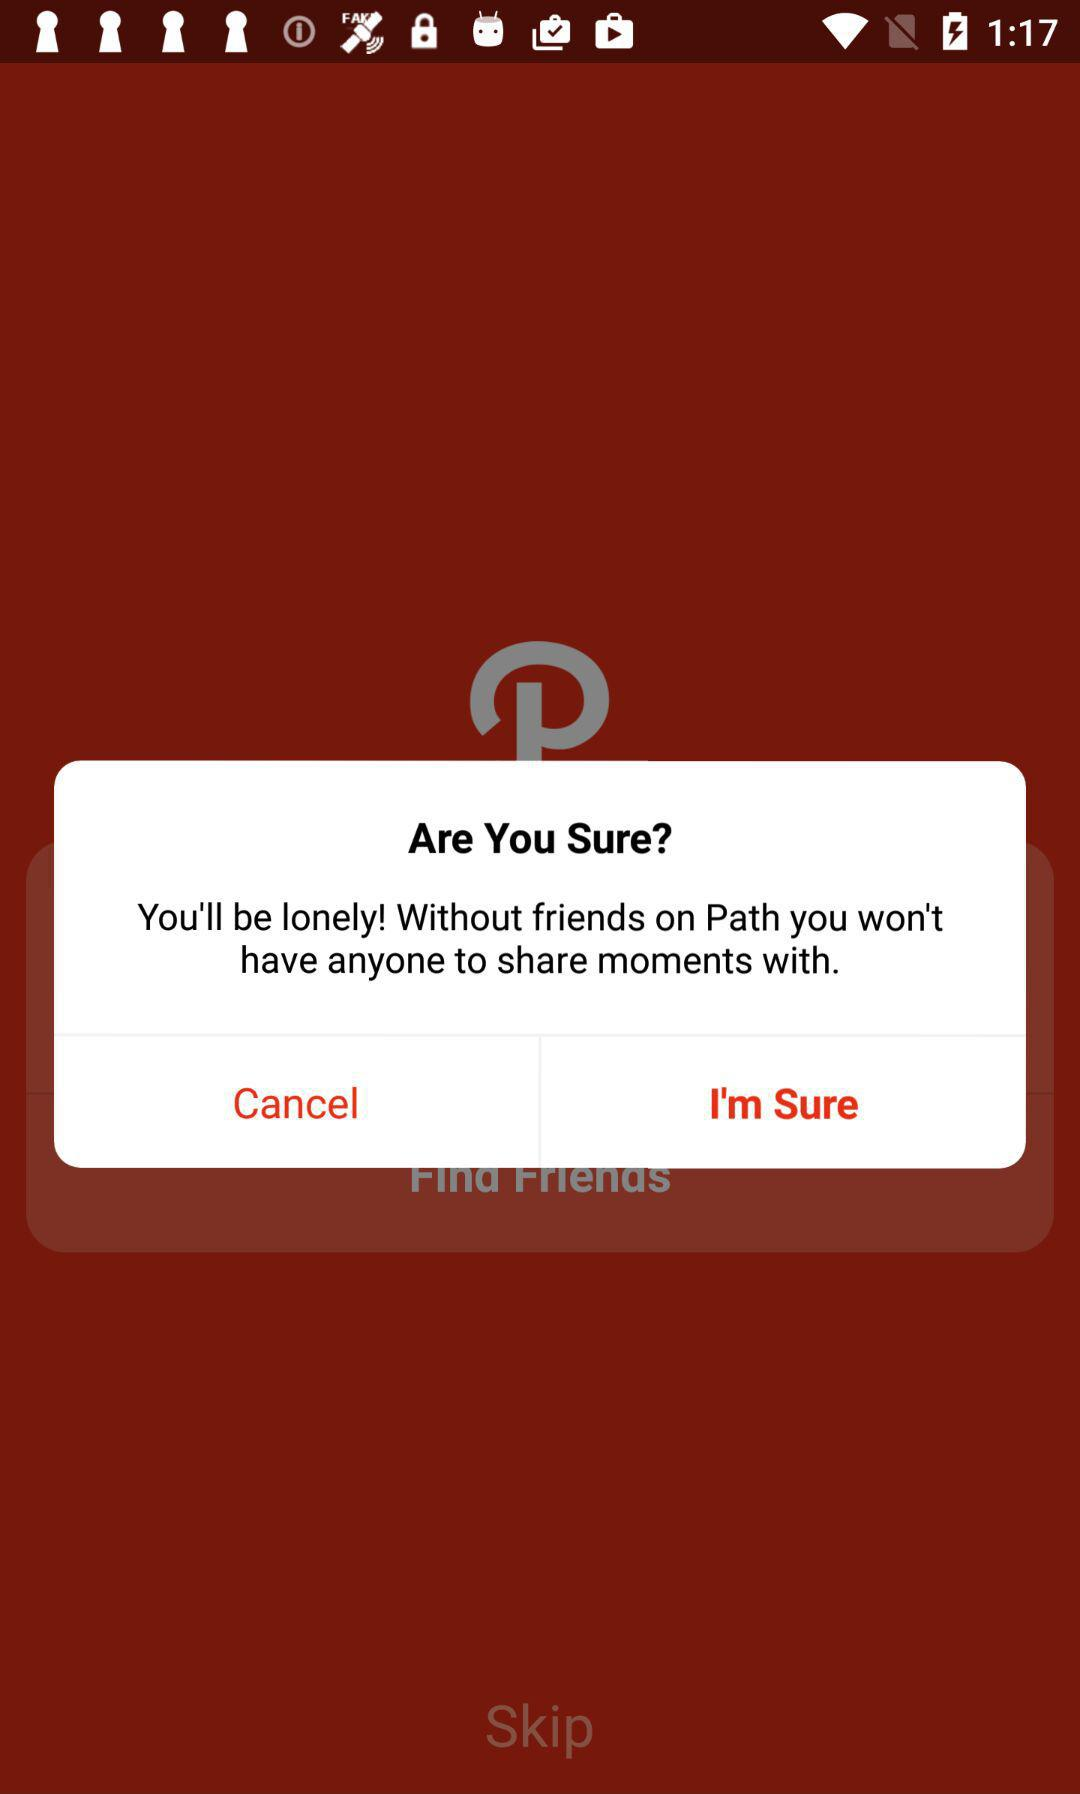Modal: (54, 761, 1027, 1169)
Text: (137, 900, 945, 983), (407, 821, 673, 856)
TextButton: (541, 1035, 1027, 1169), (55, 1035, 541, 1169)
UpperTaskBar: (1, 1, 1080, 64)
